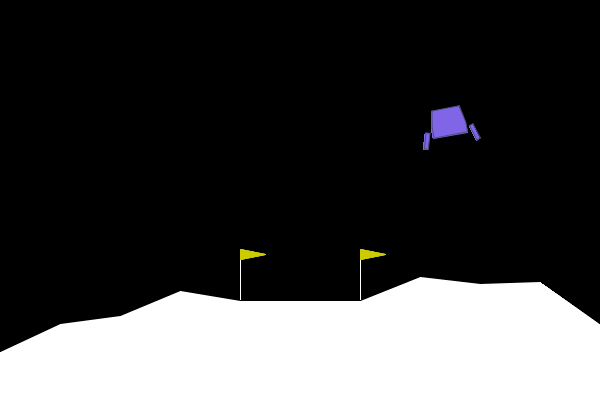lander: (415, 101, 482, 152)
